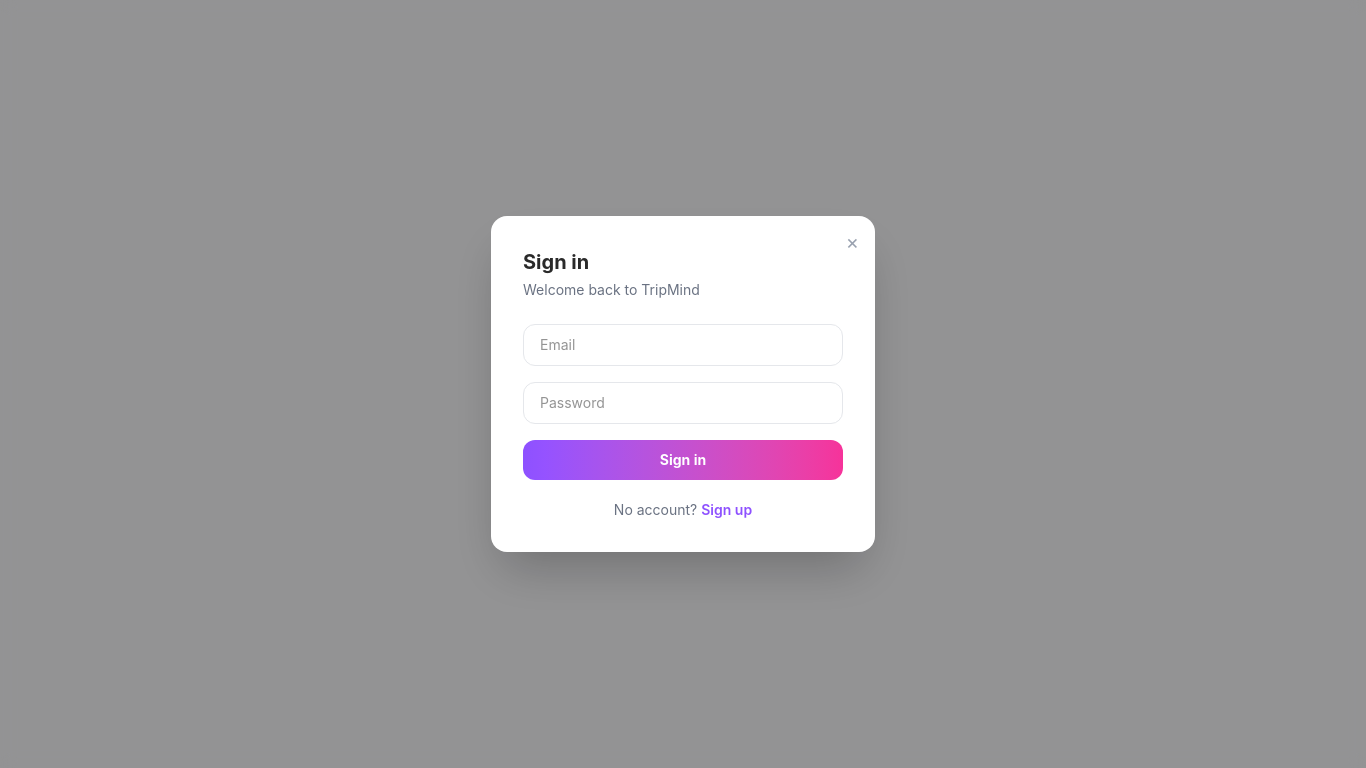
Test case: AuthModal — auth errors › shows error message on sign in failure
Type "test@example.com" into the field with placeholder "Email".
click(683, 345); type("test@example.com")  # box [523,324,843,366]
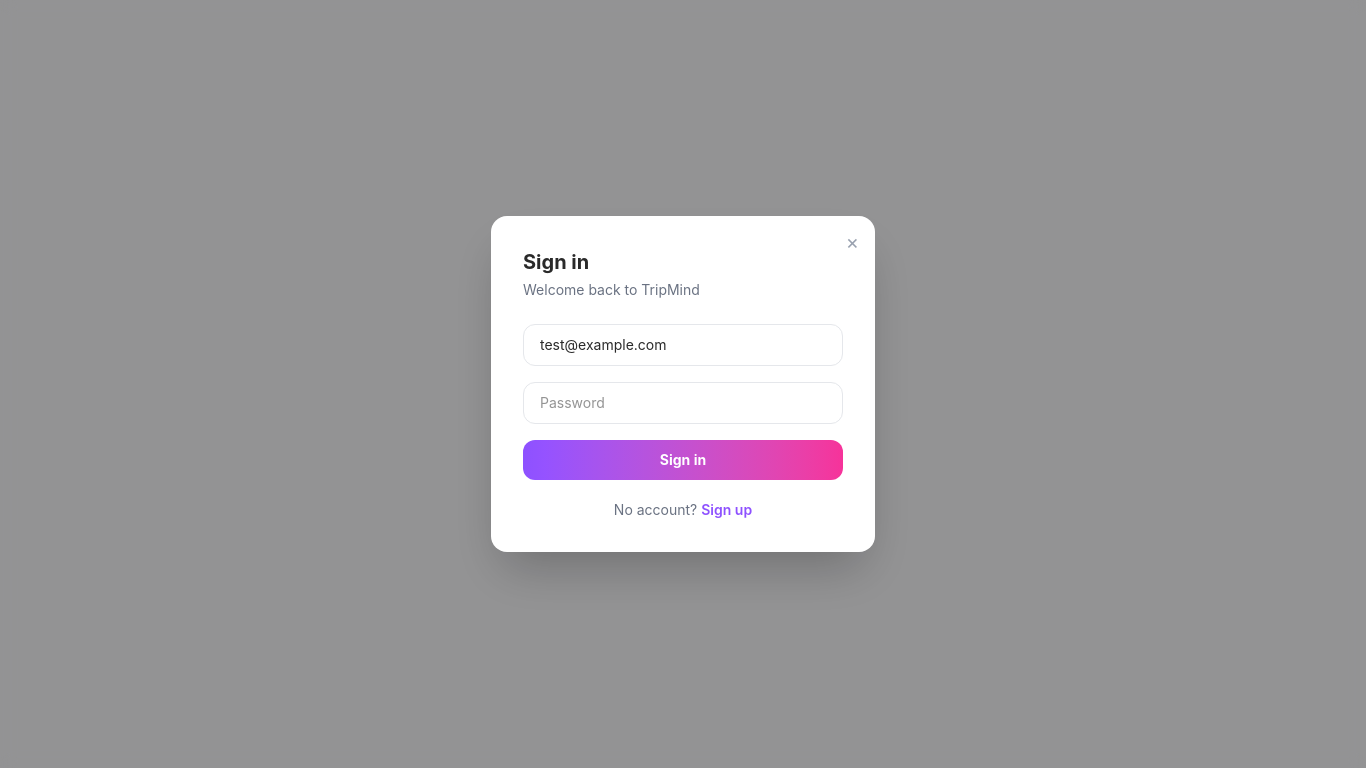
Type "wrongpass" into the password field with placeholder "Password".
click(683, 403); type("wrongpass")  # box [523,382,843,424]
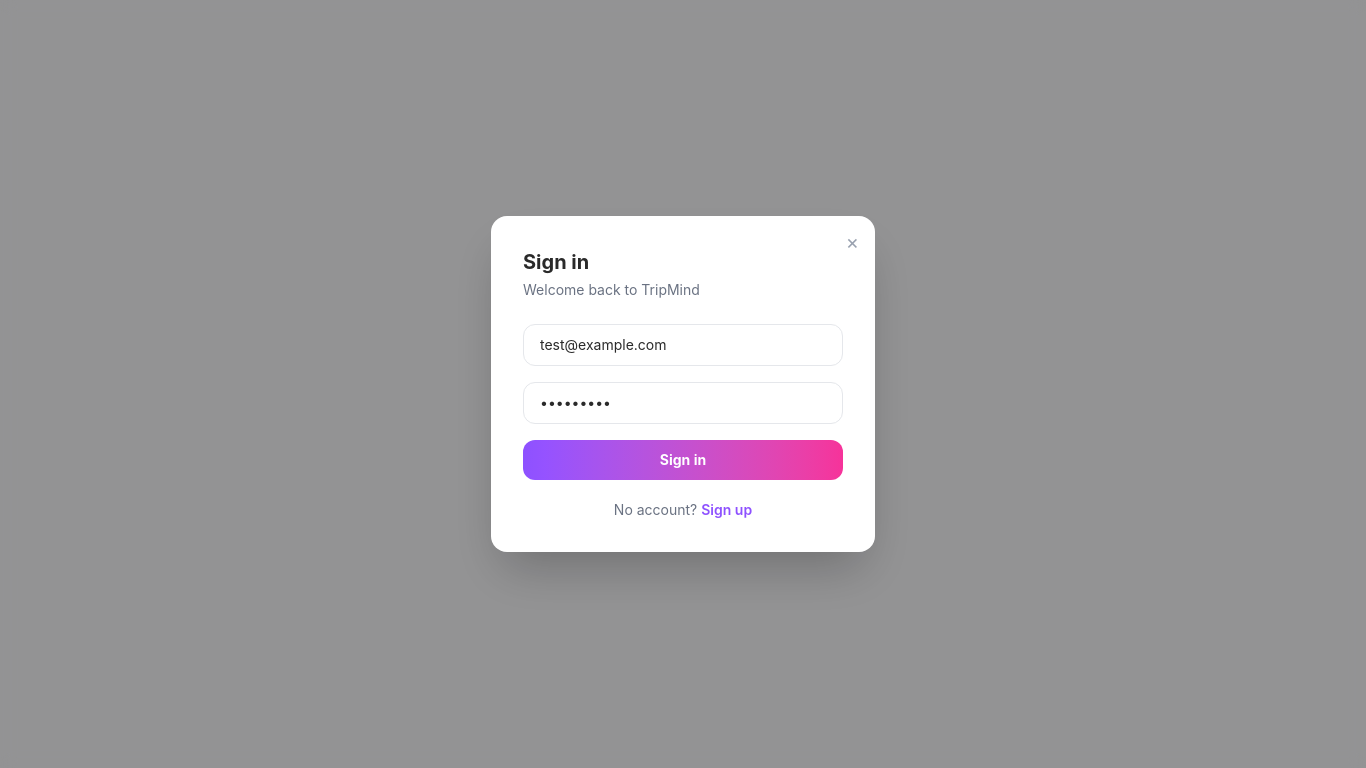
Submit the form from the button "Sign in", box [523,440,843,480]
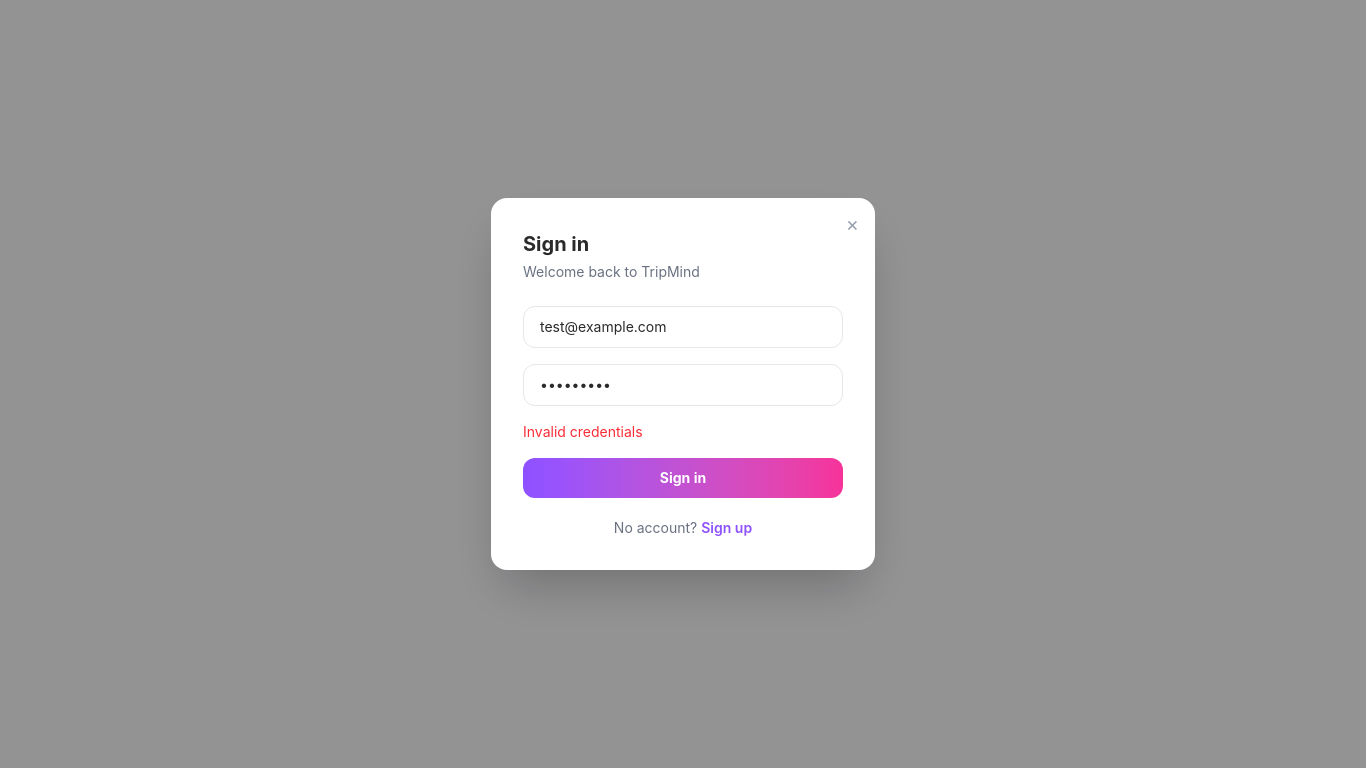
Now the text "Invalid credentials" is shown, box [523,423,643,440]
